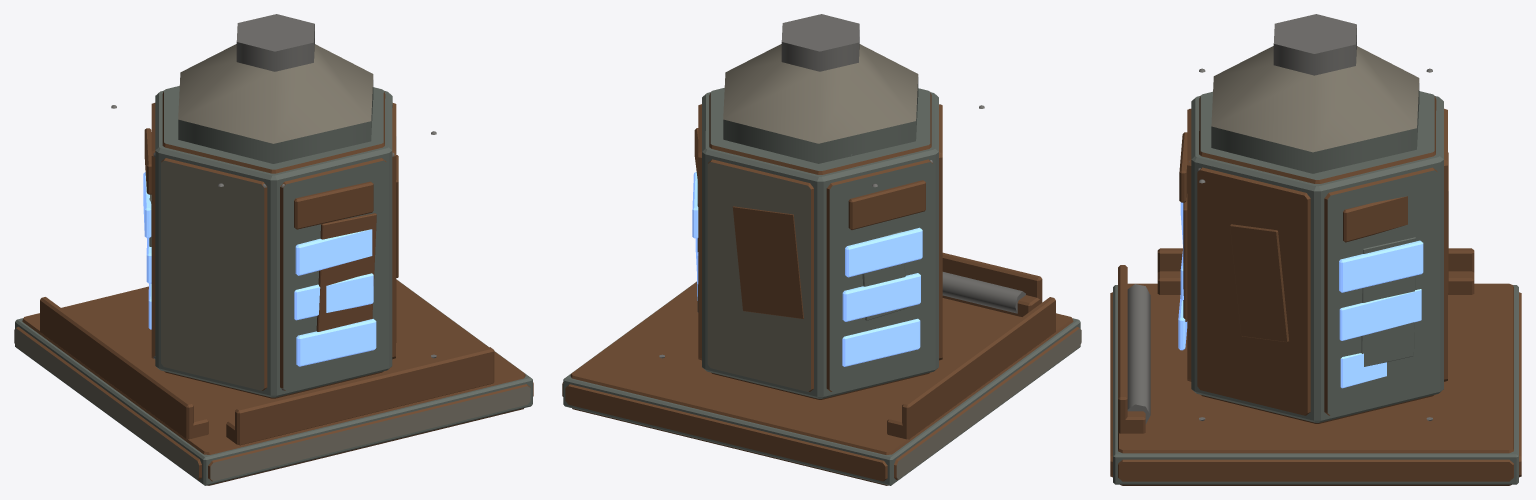
Rendered from R4X_ChargeCapacity.fbx.
The picture shows the model from 3 angles, left to right: view 1: azimuth 30°, elevation 25°; view 2: azimuth 150°, elevation 25°; view 3: azimuth 270°, elevation 25°; orthographic projection. The views are drawn at different scales.
Parts seen in each view (by area): view 1: R4X_ChargeCapacity_Body; view 2: R4X_ChargeCapacity_Body; view 3: R4X_ChargeCapacity_Body.
Part boxes in pixels (box(x1,y1,x2,y2)): R4X_ChargeCapacity_Body: box(14, 14, 533, 485); R4X_ChargeCapacity_Body: box(562, 14, 1081, 485); R4X_ChargeCapacity_Body: box(1110, 14, 1521, 485).
Bounding box in the file's own units: 0.52 × 0.515 × 0.52.
